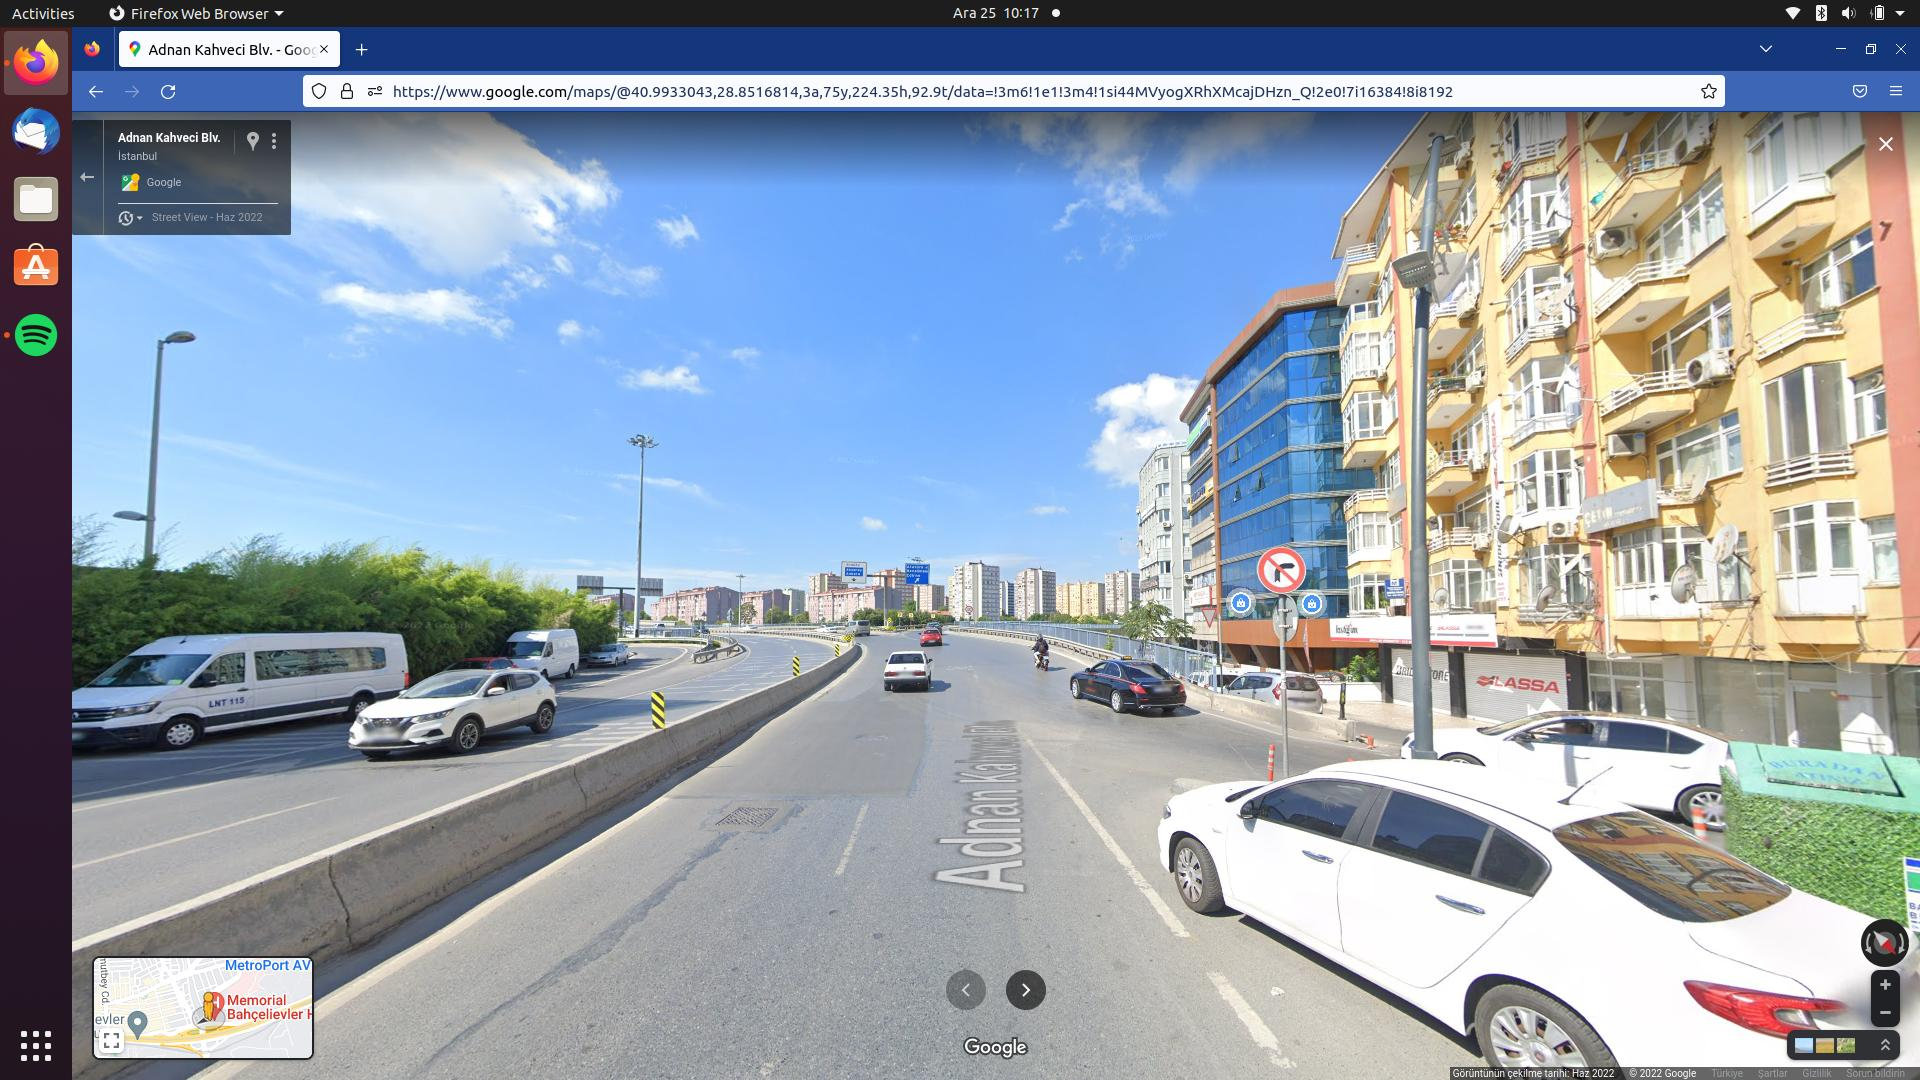rightturnsareforbidden: (1258, 546, 1305, 592)
